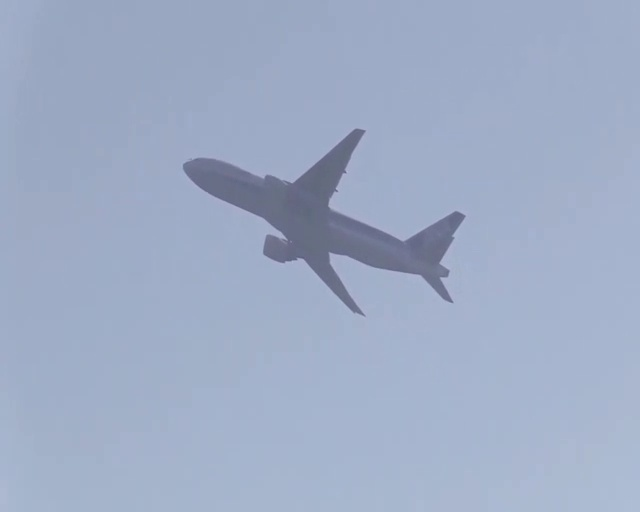AIRPLANE: (182, 128, 468, 315)
